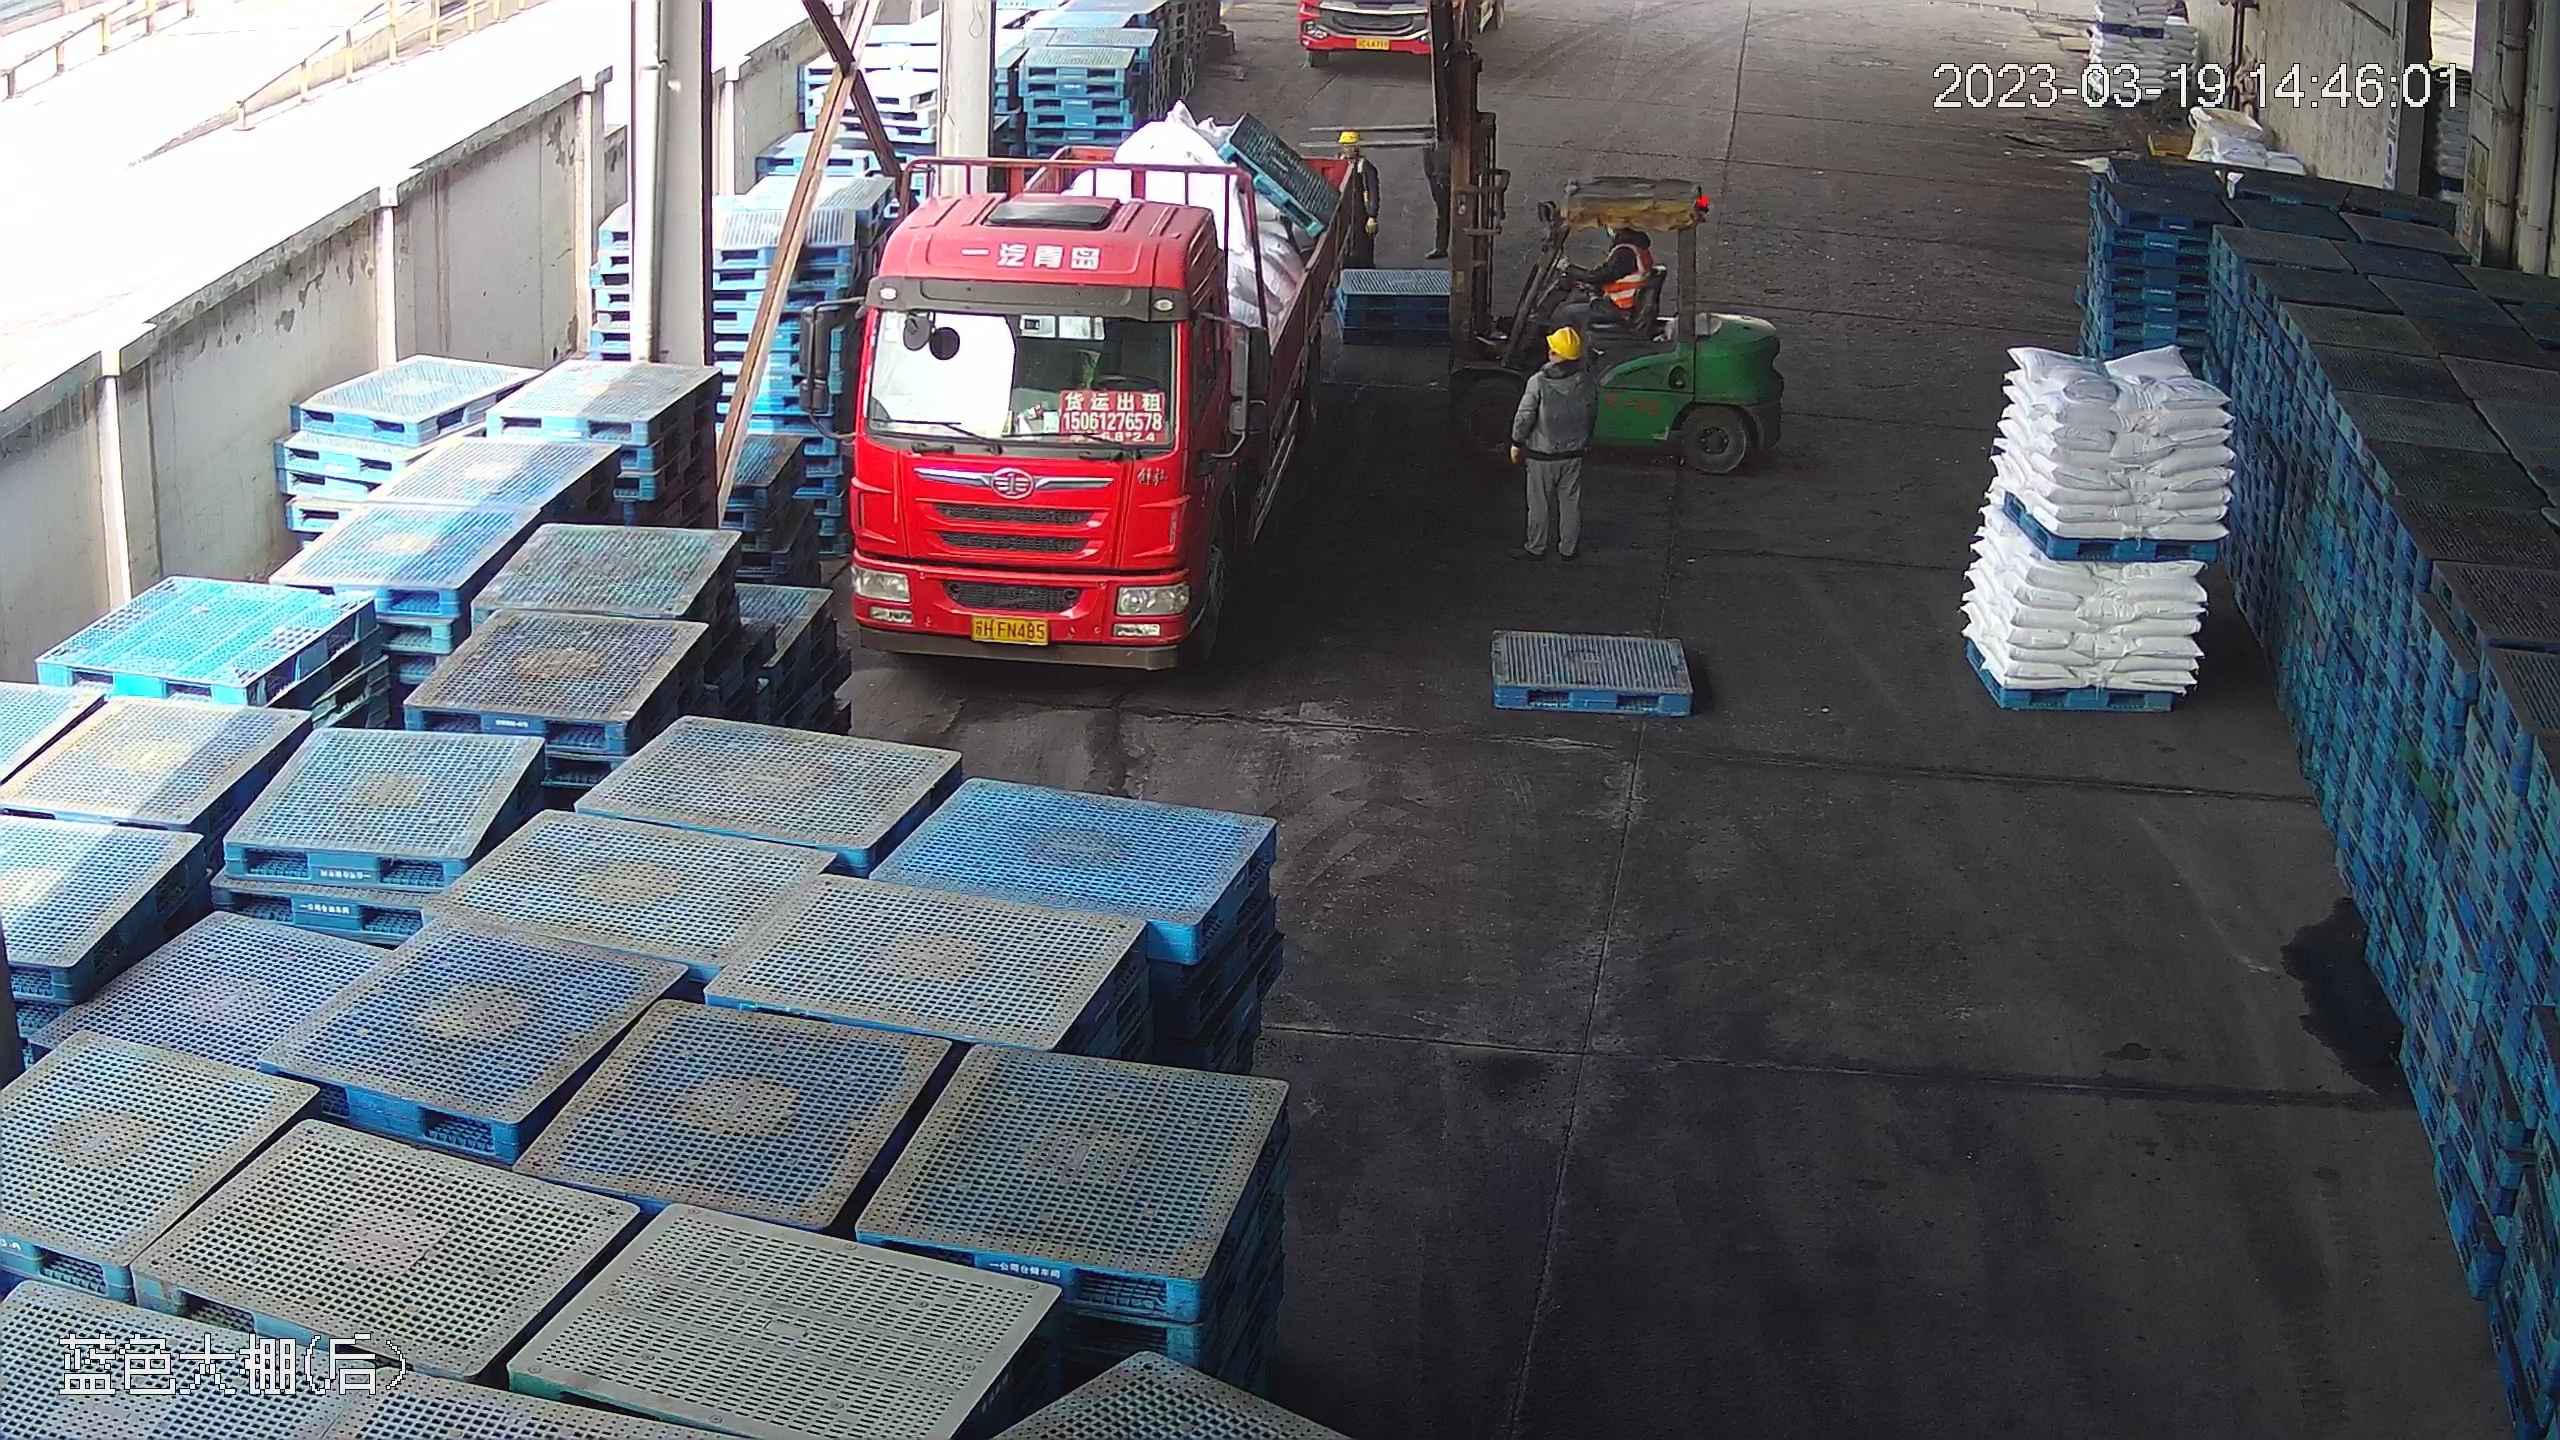head: (1525, 322, 1589, 396), (1332, 128, 1376, 182)
helmet: (1548, 323, 1583, 357), (1336, 128, 1365, 149)
people: (1508, 321, 1596, 567), (1545, 219, 1652, 347), (1327, 126, 1382, 268)
truck: (828, 107, 1367, 668), (1282, 1, 1468, 68)
